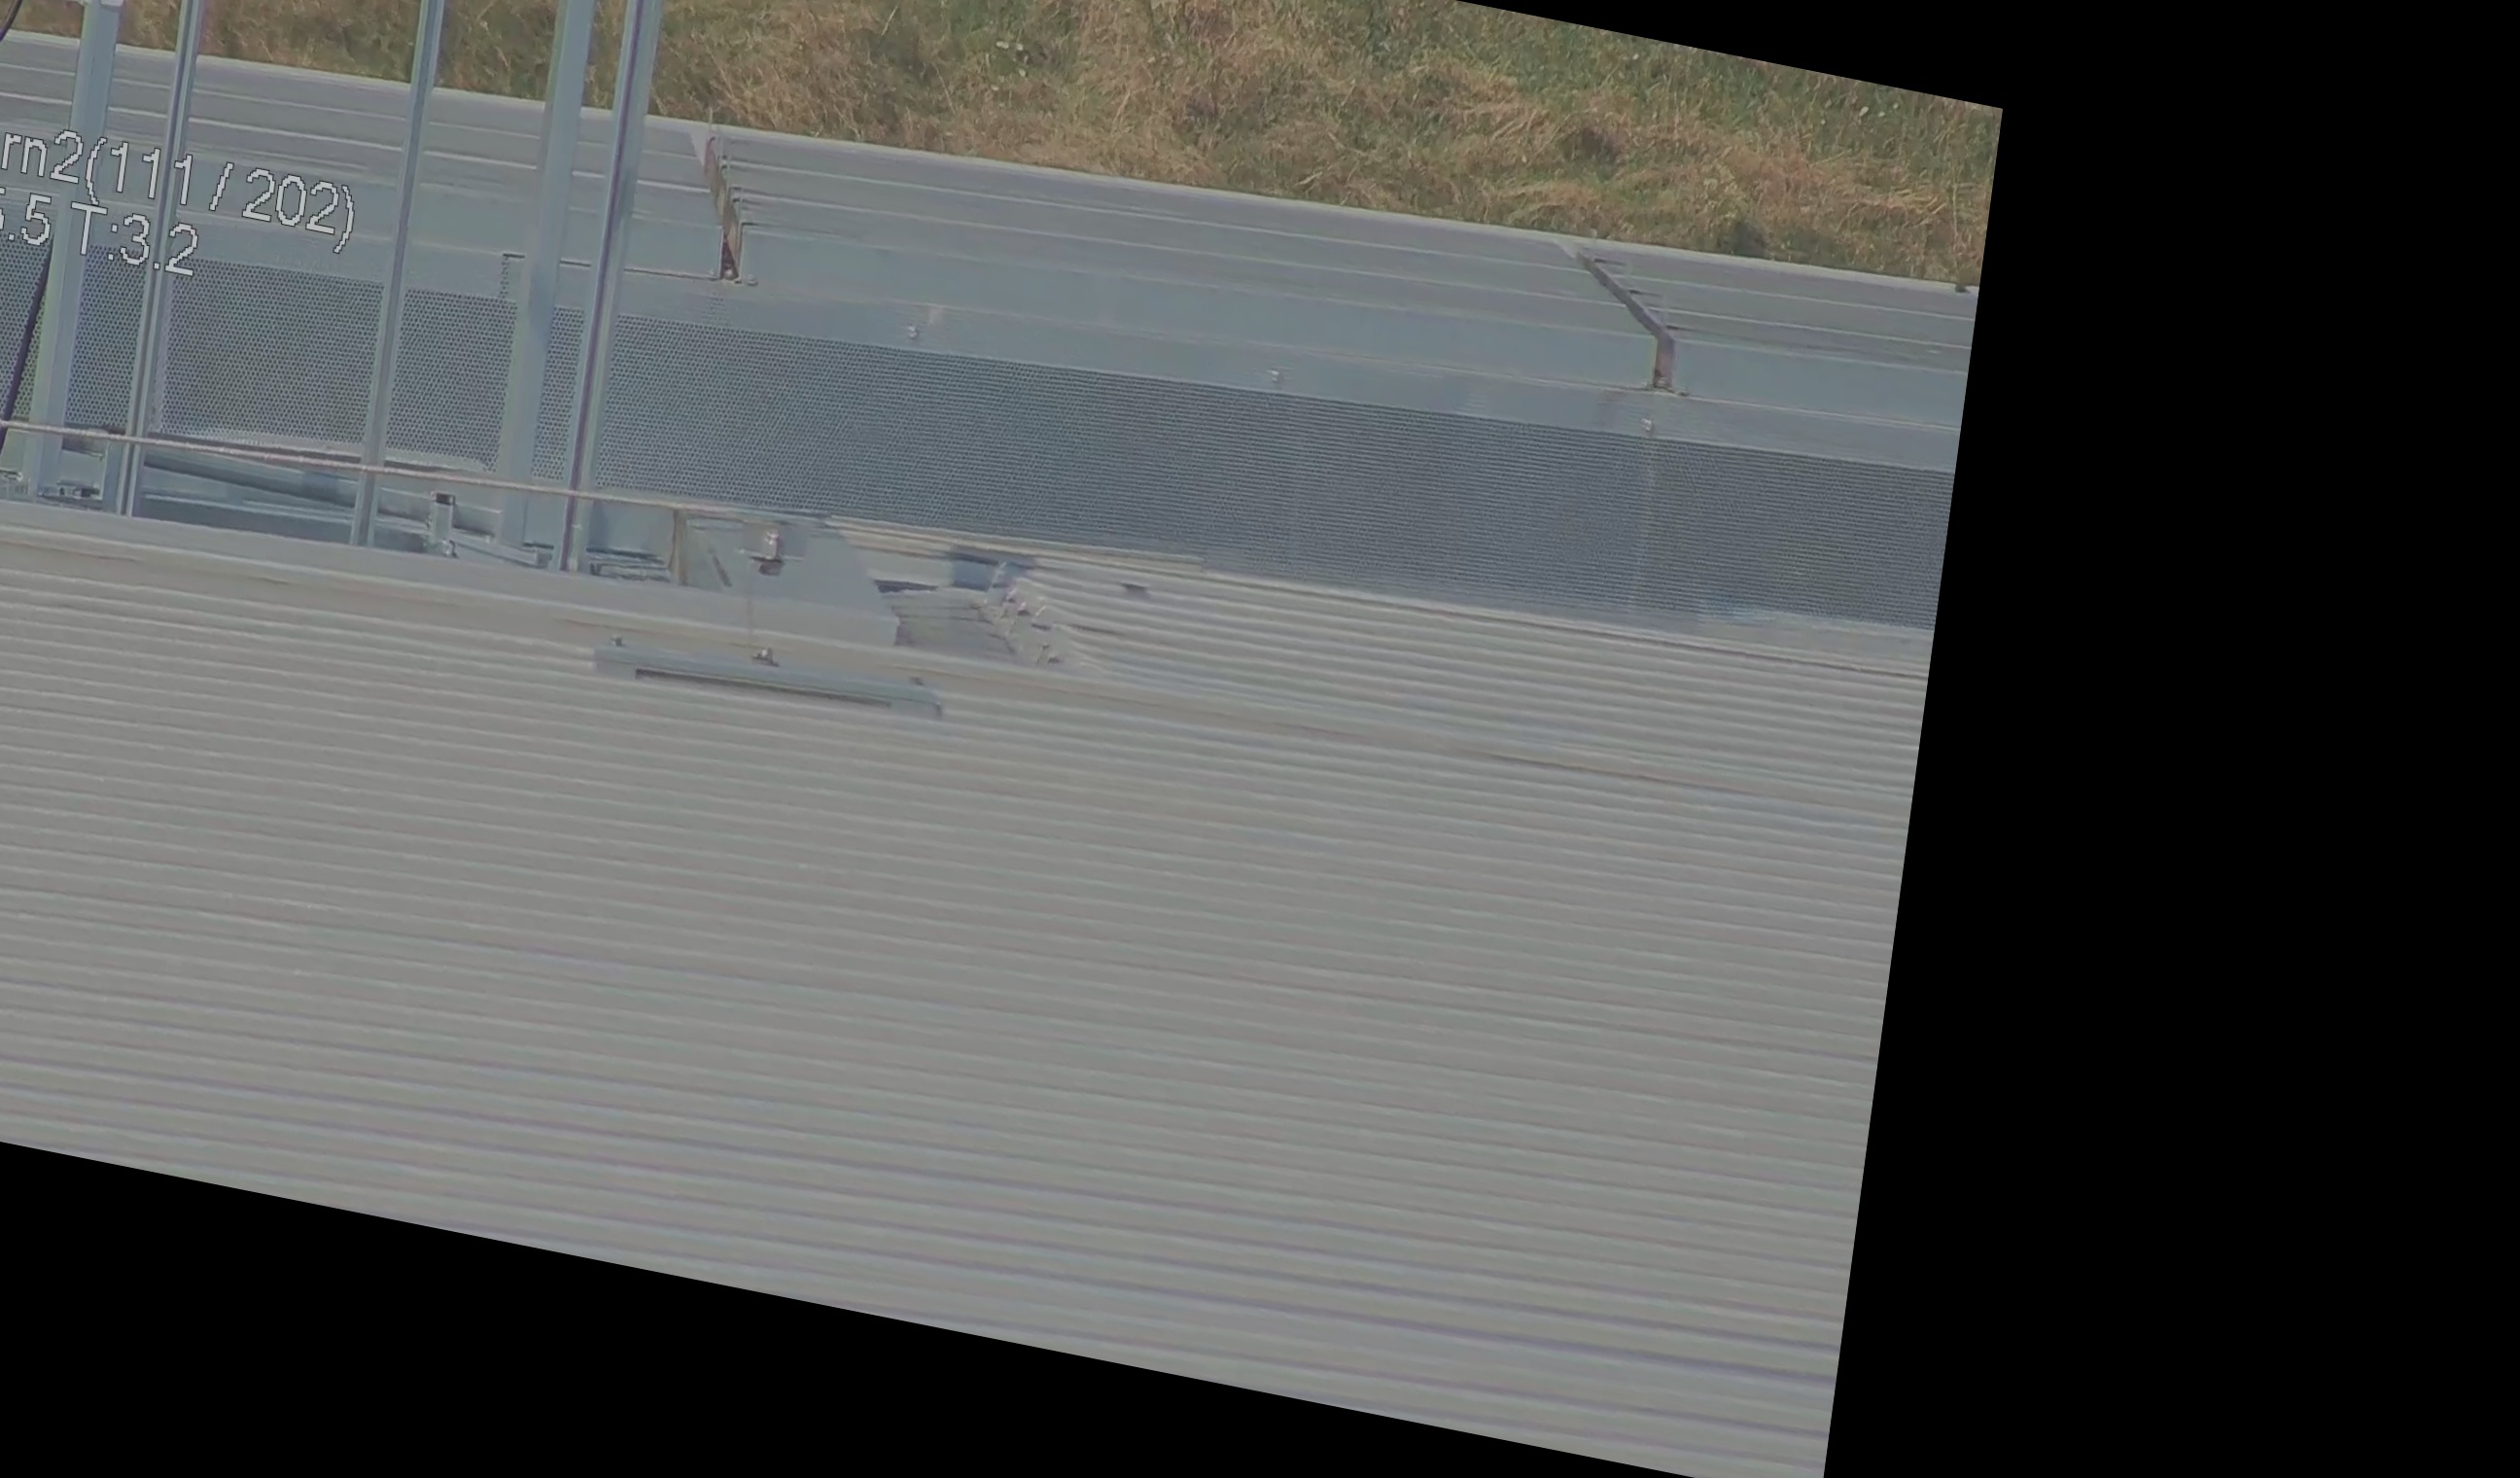Other: (668, 109, 779, 283)
